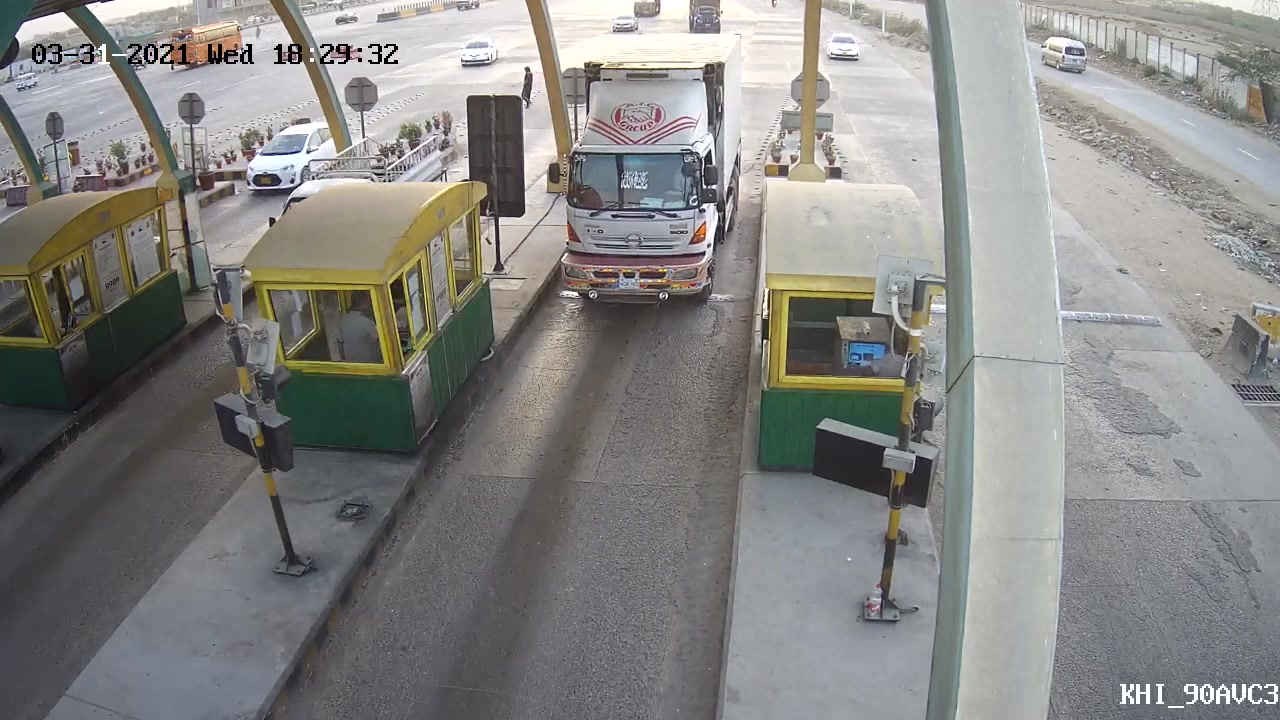F5: (534, 24, 750, 312)
